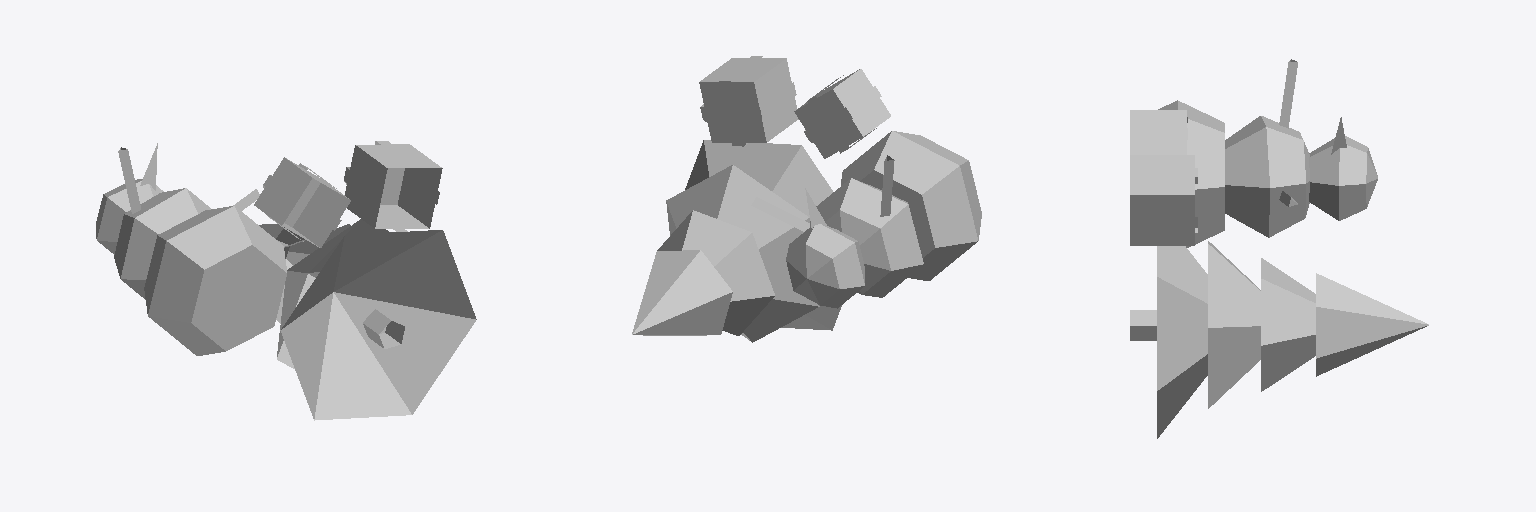
Rendered from Christmax.obj.
3 views of the same model, side by side, from view 1: azimuth 30°, elevation 25°; view 2: azimuth 150°, elevation 25°; view 3: azimuth 270°, elevation 25° (orthographic).
Visible parts, largest first — view 1: PineLeaf_Cone.003, SnowmanBelly_Sphere, Giftbox1_Cube.002, Giftbox2_Cube.004, SnowmanChest_Sphere.001, SnowmanHead_Sphere.002, PineStem_Cylinder, GiftboxRibbon1_Cube.003, SnowmanRightHand_Cylinder.004, GiftboxRibbon2_Cube.005; view 2: PineLeaf_Cone.003, SnowmanBelly_Sphere, SnowmanChest_Sphere.001, SnowmanHead_Sphere.002, Giftbox1_Cube.002, Giftbox2_Cube.004, GiftboxRibbon1_Cube.003, GiftboxRibbon2_Cube.005, SnowmanLeftHand_Cylinder.002, SnowmanRightHand_Cylinder.004; view 3: PineLeaf_Cone.003, SnowmanChest_Sphere.001, Giftbox1_Cube.002, SnowmanHead_Sphere.002, SnowmanBelly_Sphere, Giftbox2_Cube.004, GiftboxRibbon1_Cube.003, PineStem_Cylinder, GiftboxRibbon2_Cube.005, SnowmanRightHand_Cylinder.004.
Boxes of the visible parts, x1=… form: PineLeaf_Cone.003: x1=259, y1=219, x2=476, y2=420; SnowmanBelly_Sphere: x1=144, y1=206, x2=286, y2=355; Giftbox1_Cube.002: x1=345, y1=144, x2=442, y2=228; Giftbox2_Cube.004: x1=254, y1=157, x2=350, y2=247; SnowmanChest_Sphere.001: x1=114, y1=188, x2=210, y2=299; SnowmanHead_Sphere.002: x1=96, y1=179, x2=163, y2=254; PineStem_Cylinder: x1=363, y1=309, x2=404, y2=348; GiftboxRibbon1_Cube.003: x1=344, y1=141, x2=439, y2=231; SnowmanRightHand_Cylinder.004: x1=118, y1=147, x2=140, y2=213; GiftboxRibbon2_Cube.005: x1=263, y1=163, x2=341, y2=241; PineLeaf_Cone.003: x1=632, y1=140, x2=841, y2=342; SnowmanBelly_Sphere: x1=841, y1=131, x2=981, y2=280; SnowmanChest_Sphere.001: x1=810, y1=178, x2=923, y2=297; SnowmanHead_Sphere.002: x1=786, y1=224, x2=864, y2=308; Giftbox1_Cube.002: x1=699, y1=58, x2=798, y2=142; Giftbox2_Cube.004: x1=794, y1=69, x2=890, y2=158; GiftboxRibbon1_Cube.003: x1=700, y1=56, x2=796, y2=146; GiftboxRibbon2_Cube.005: x1=804, y1=75, x2=881, y2=153; SnowmanLeftHand_Cylinder.002: x1=751, y1=197, x2=809, y2=231; SnowmanRightHand_Cylinder.004: x1=880, y1=155, x2=894, y2=216; PineLeaf_Cone.003: x1=1157, y1=241, x2=1428, y2=438; SnowmanChest_Sphere.001: x1=1225, y1=116, x2=1309, y2=237; Giftbox1_Cube.002: x1=1130, y1=155, x2=1194, y2=245; SnowmanHead_Sphere.002: x1=1309, y1=136, x2=1377, y2=220; SnowmanBelly_Sphere: x1=1158, y1=100, x2=1224, y2=247; Giftbox2_Cube.004: x1=1130, y1=110, x2=1186, y2=154; GiftboxRibbon1_Cube.003: x1=1130, y1=168, x2=1197, y2=232; PineStem_Cylinder: x1=1130, y1=310, x2=1156, y2=340; GiftboxRibbon2_Cube.005: x1=1130, y1=117, x2=1187, y2=139; SnowmanRightHand_Cylinder.004: x1=1279, y1=59, x2=1297, y2=128.
Bounding box in the file's own units: 2.26 × 1.86 × 1.85.